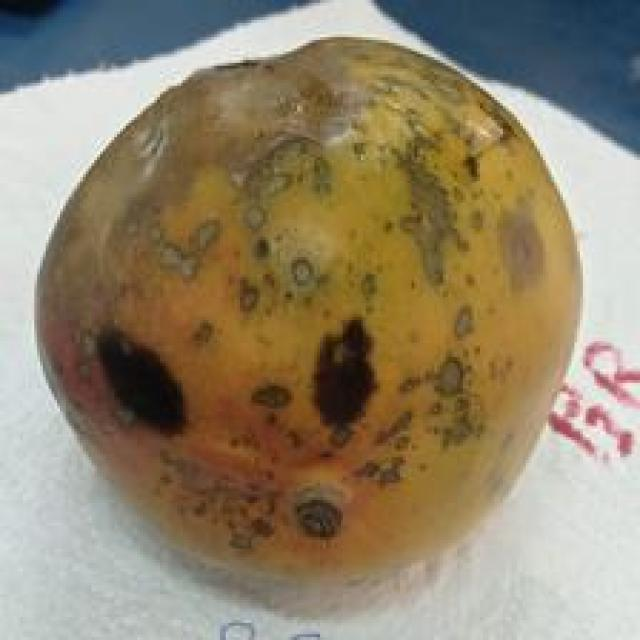Bad_Mango: (39, 39, 580, 567)
